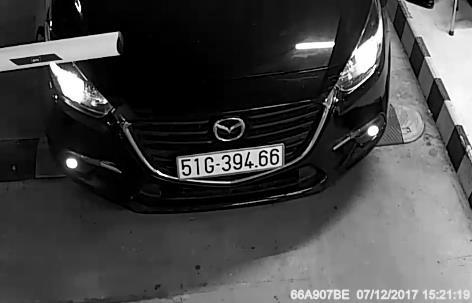License-plate: (161, 136, 289, 183)
